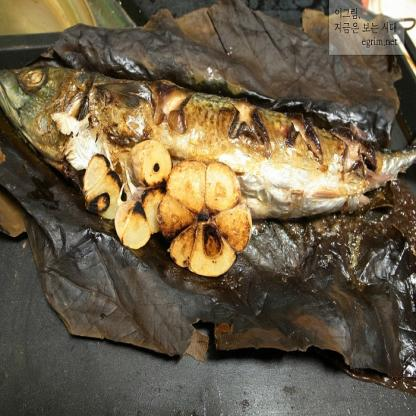Peixe: (0, 6, 413, 364)
